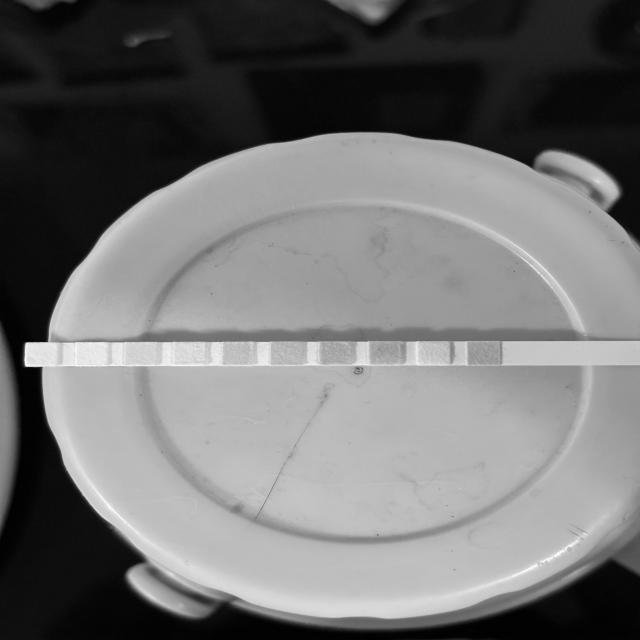Bilirubin: (418, 342, 449, 364)
Blood: (272, 342, 301, 364)
Glucose: (468, 342, 500, 365)
Ketone: (369, 342, 400, 365)
Leukocytes: (27, 344, 56, 366)
Nitrite: (76, 344, 106, 366)
Protein: (174, 343, 204, 364)
SpGravity: (320, 342, 350, 365)
Urobilinogen: (126, 343, 154, 365)
background: (0, 0, 640, 640)
pH: (224, 342, 252, 365)
strip: (25, 341, 640, 367)
